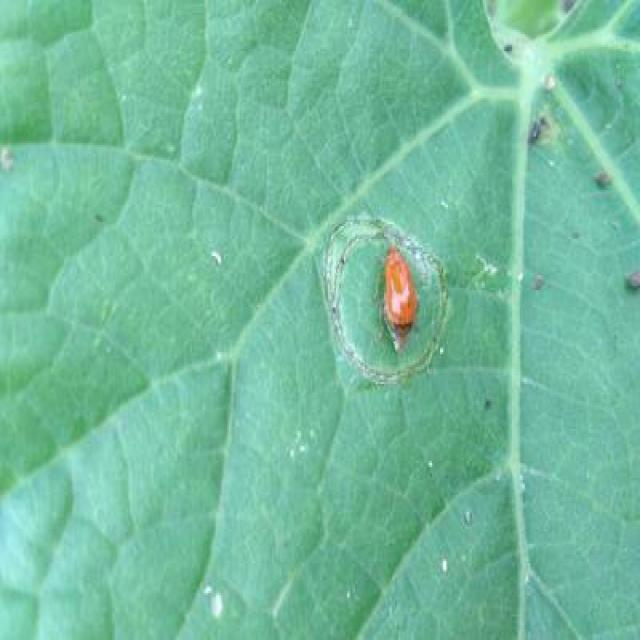Pumpkin Beetle: (300, 206, 480, 391)
